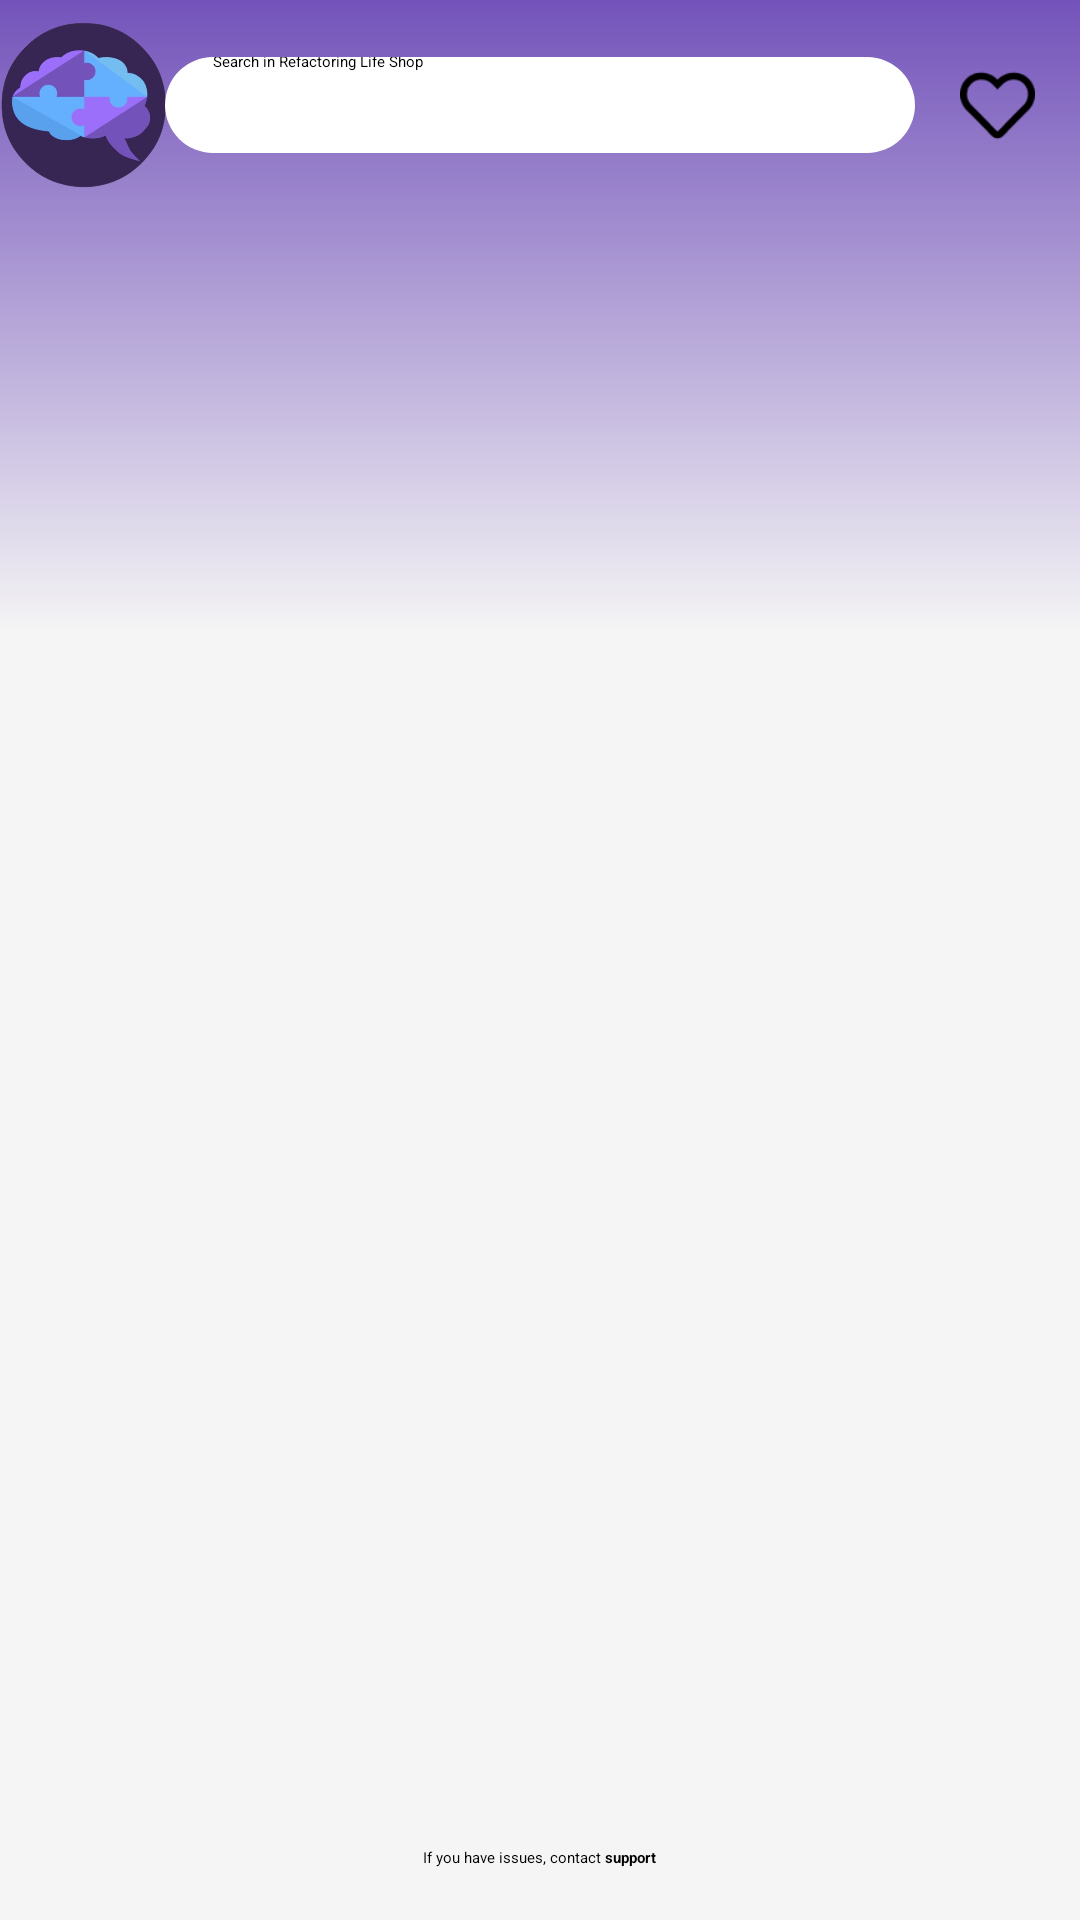

Icons on this 1080x1920 Android screen, each with the point to tap as [x,y]:
App Icon: [87,105]
Favorites: [997,107]
